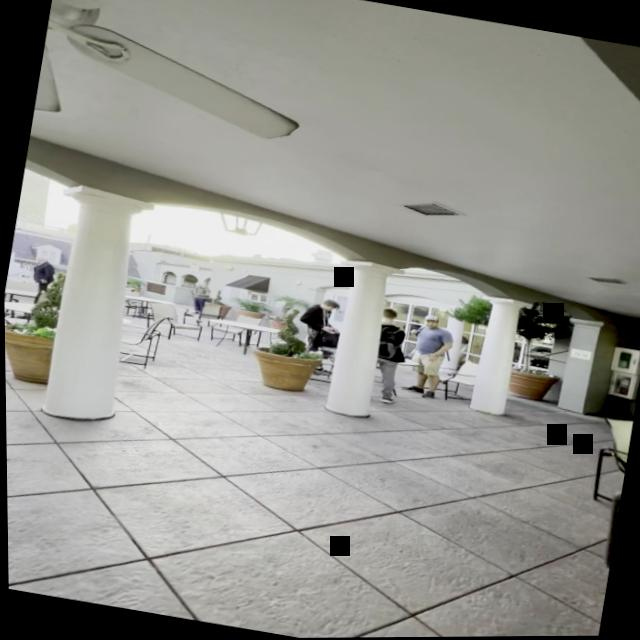NO-Mask: (424, 319, 438, 331), (325, 302, 338, 314)
